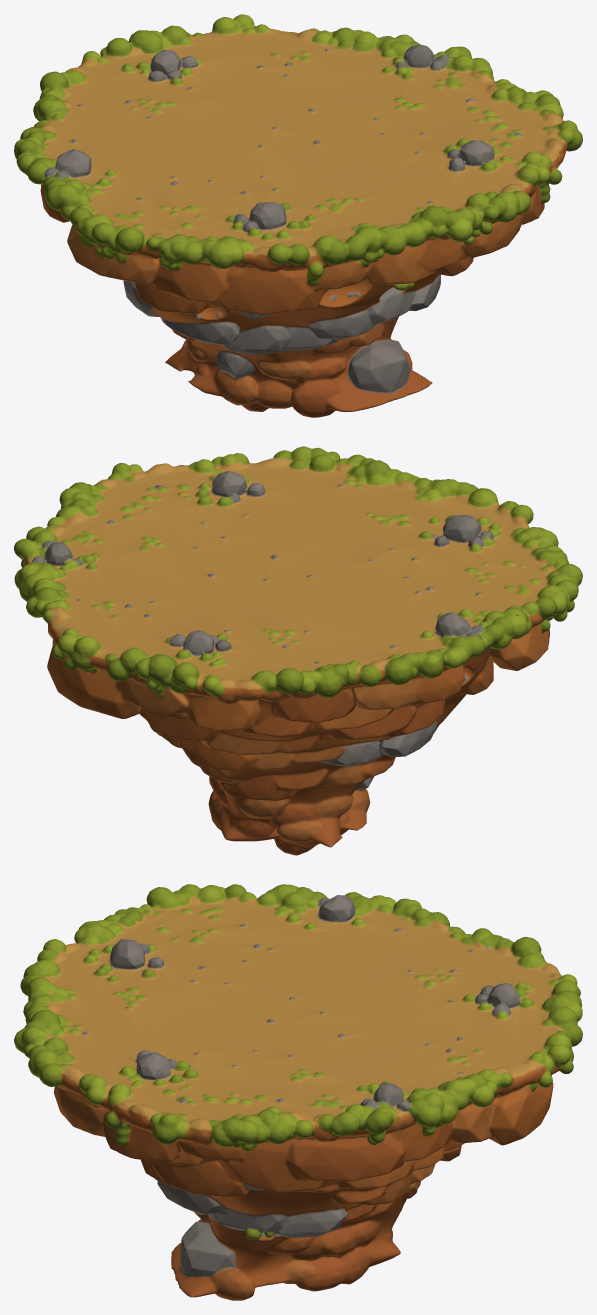
The model's file is IFK01_K1R3_B_M20MC.glb.
3 renders of one model, top to bottom at view 1: azimuth 30°, elevation 25°; view 2: azimuth 150°, elevation 25°; view 3: azimuth 270°, elevation 25°, orthographic. The views are drawn at different scales.
Parts seen in each view (by area): view 1: IFK01_K1R3_B; view 2: IFK01_K1R3_B; view 3: IFK01_K1R3_B.
Part boxes in pixels (x1,y1,x2,y2): IFK01_K1R3_B: [14, 14, 582, 417]; IFK01_K1R3_B: [14, 446, 582, 855]; IFK01_K1R3_B: [14, 884, 582, 1300].
Bounding box in the file's own units: 137 × 77.56 × 133.
